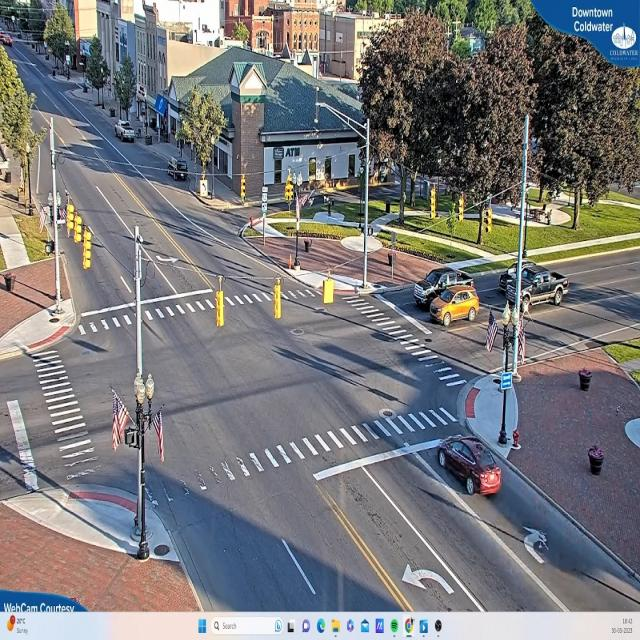car: (444, 434, 504, 498), (515, 266, 567, 317), (430, 283, 480, 322), (413, 267, 444, 308), (115, 122, 136, 143)
